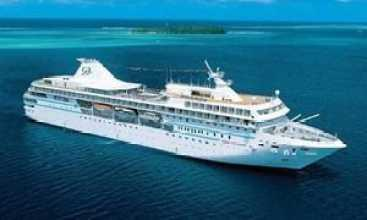youlun: (21, 56, 347, 170)
